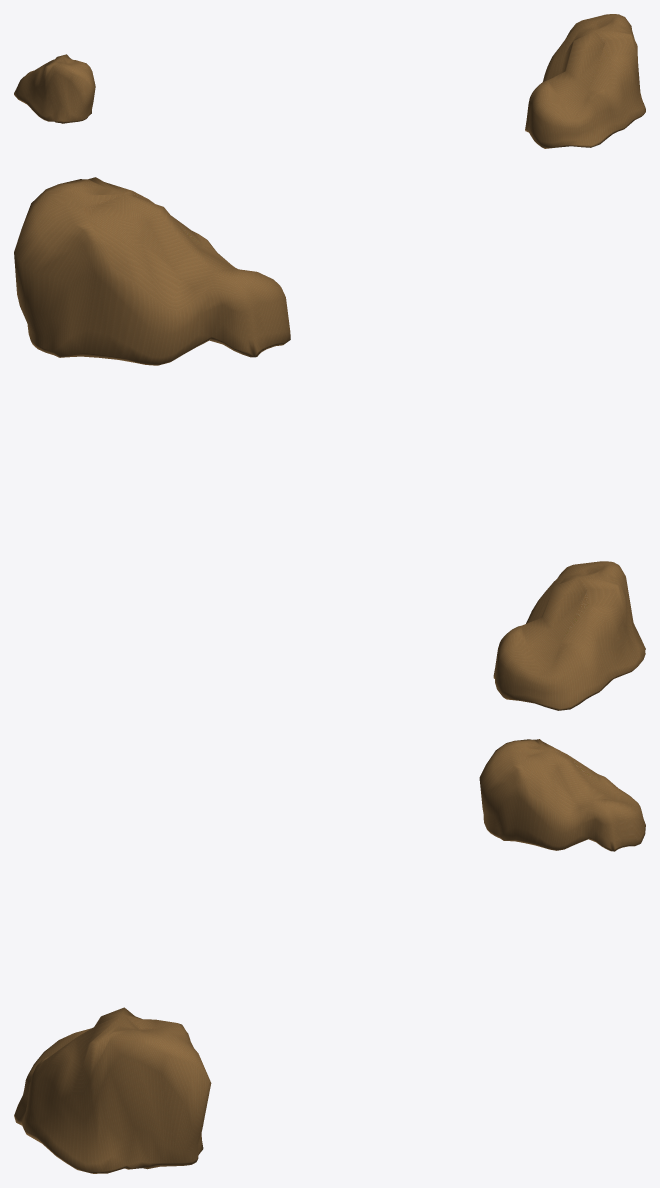
File: islas_extra.glb
The picture shows the model from 3 angles, top to bottom: view 1: azimuth 30°, elevation 25°; view 2: azimuth 150°, elevation 25°; view 3: azimuth 270°, elevation 25°; orthographic projection. The views are drawn at different scales.
Parts seen in each view (by area): view 1: isla_imposible_cruzando.003; view 2: isla_imposible_cruzando.003; view 3: isla_imposible_cruzando.003.
Boxes of the visible parts, <box> form: isla_imposible_cruzando.003: <box>14,14,645,148</box>; isla_imposible_cruzando.003: <box>14,177,645,710</box>; isla_imposible_cruzando.003: <box>14,739,645,1173</box>.
Size of the model in its own units: 454 by 79.64 by 333.
Materials: 1 (1 with a texture image).
